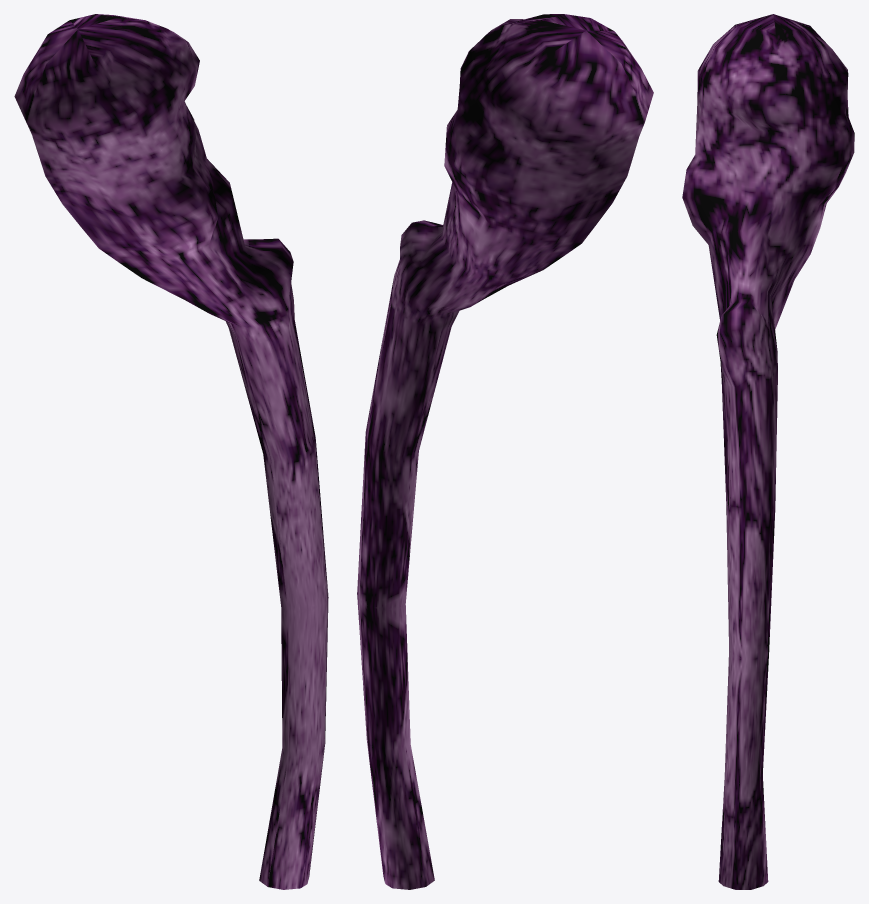
File: static.ico.obj
The picture shows the model from 3 angles, left to right: view 1: azimuth 30°, elevation 25°; view 2: azimuth 150°, elevation 25°; view 3: azimuth 270°, elevation 25°; orthographic projection. The views are drawn at different scales.
Size of the model in its own units: 1.47 by 4.33 by 0.8608.
1 material, 1 textured.
